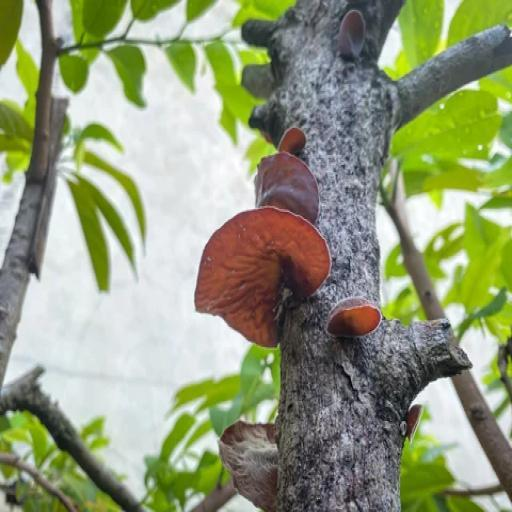mushroom: (187, 125, 329, 344), (218, 414, 282, 512), (330, 296, 385, 336), (336, 5, 369, 66), (404, 401, 428, 444)
